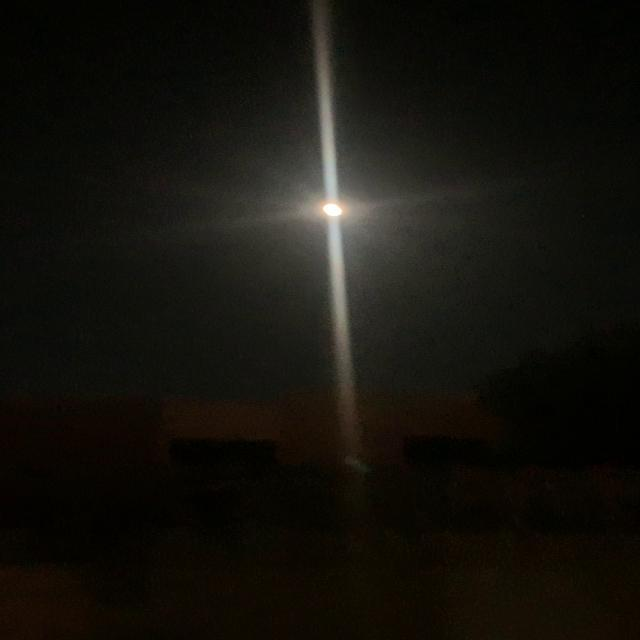moon: (303, 190, 367, 223)
